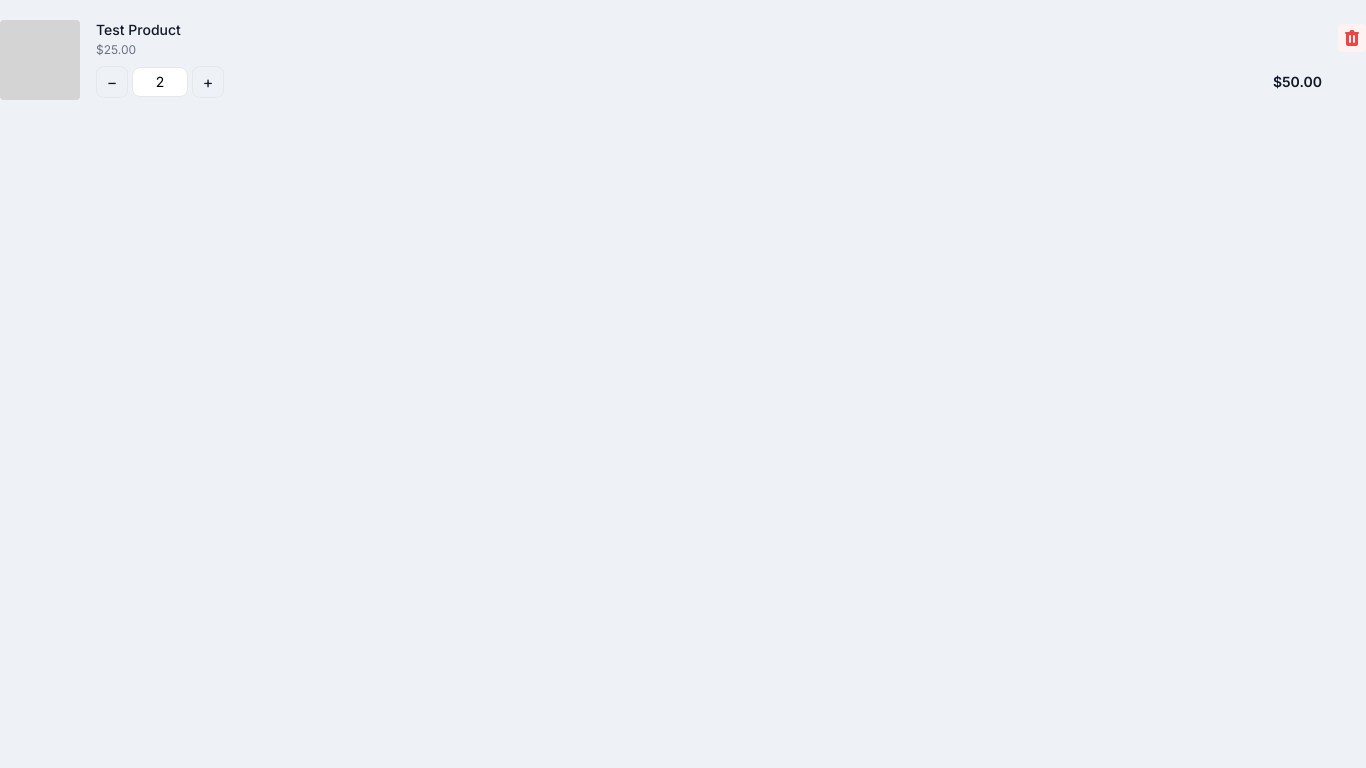
CartLineItem › remove confirmation modal › modal closes after confirming Remove
Click the button named "Remove Test Product" at {"x": 1352, "y": 38}, box left=1338, top=24, right=1365, bottom=52
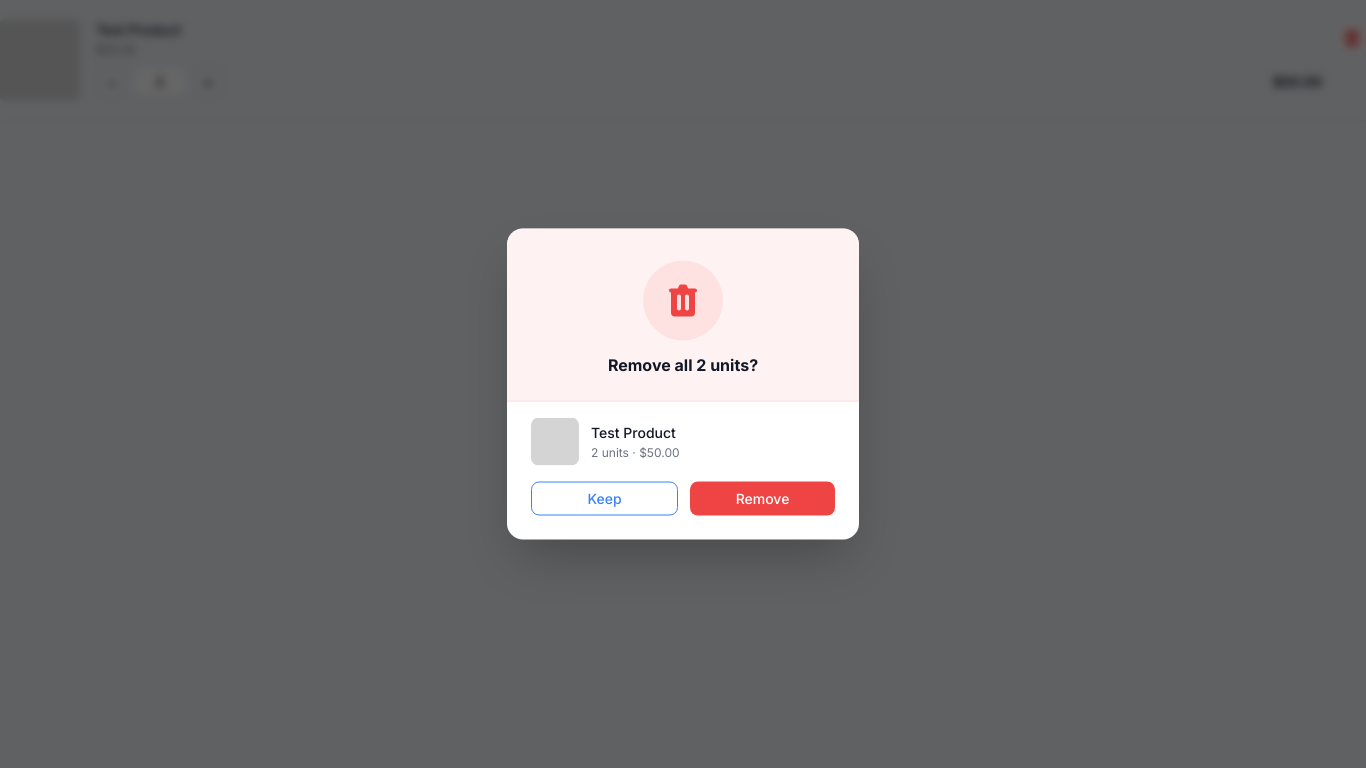
Click the button "Remove" at {"x": 762, "y": 498}, box left=690, top=482, right=835, bottom=516
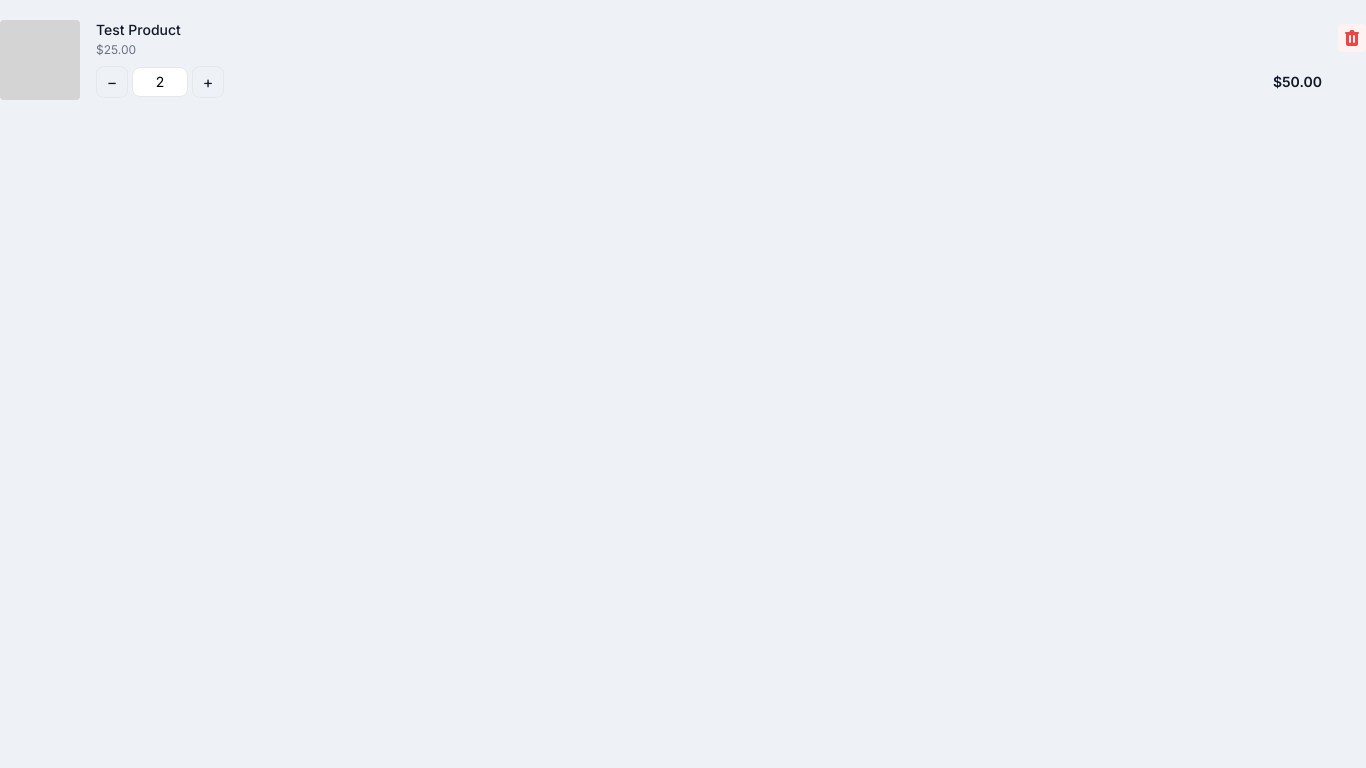
Result: the dialog is gone
